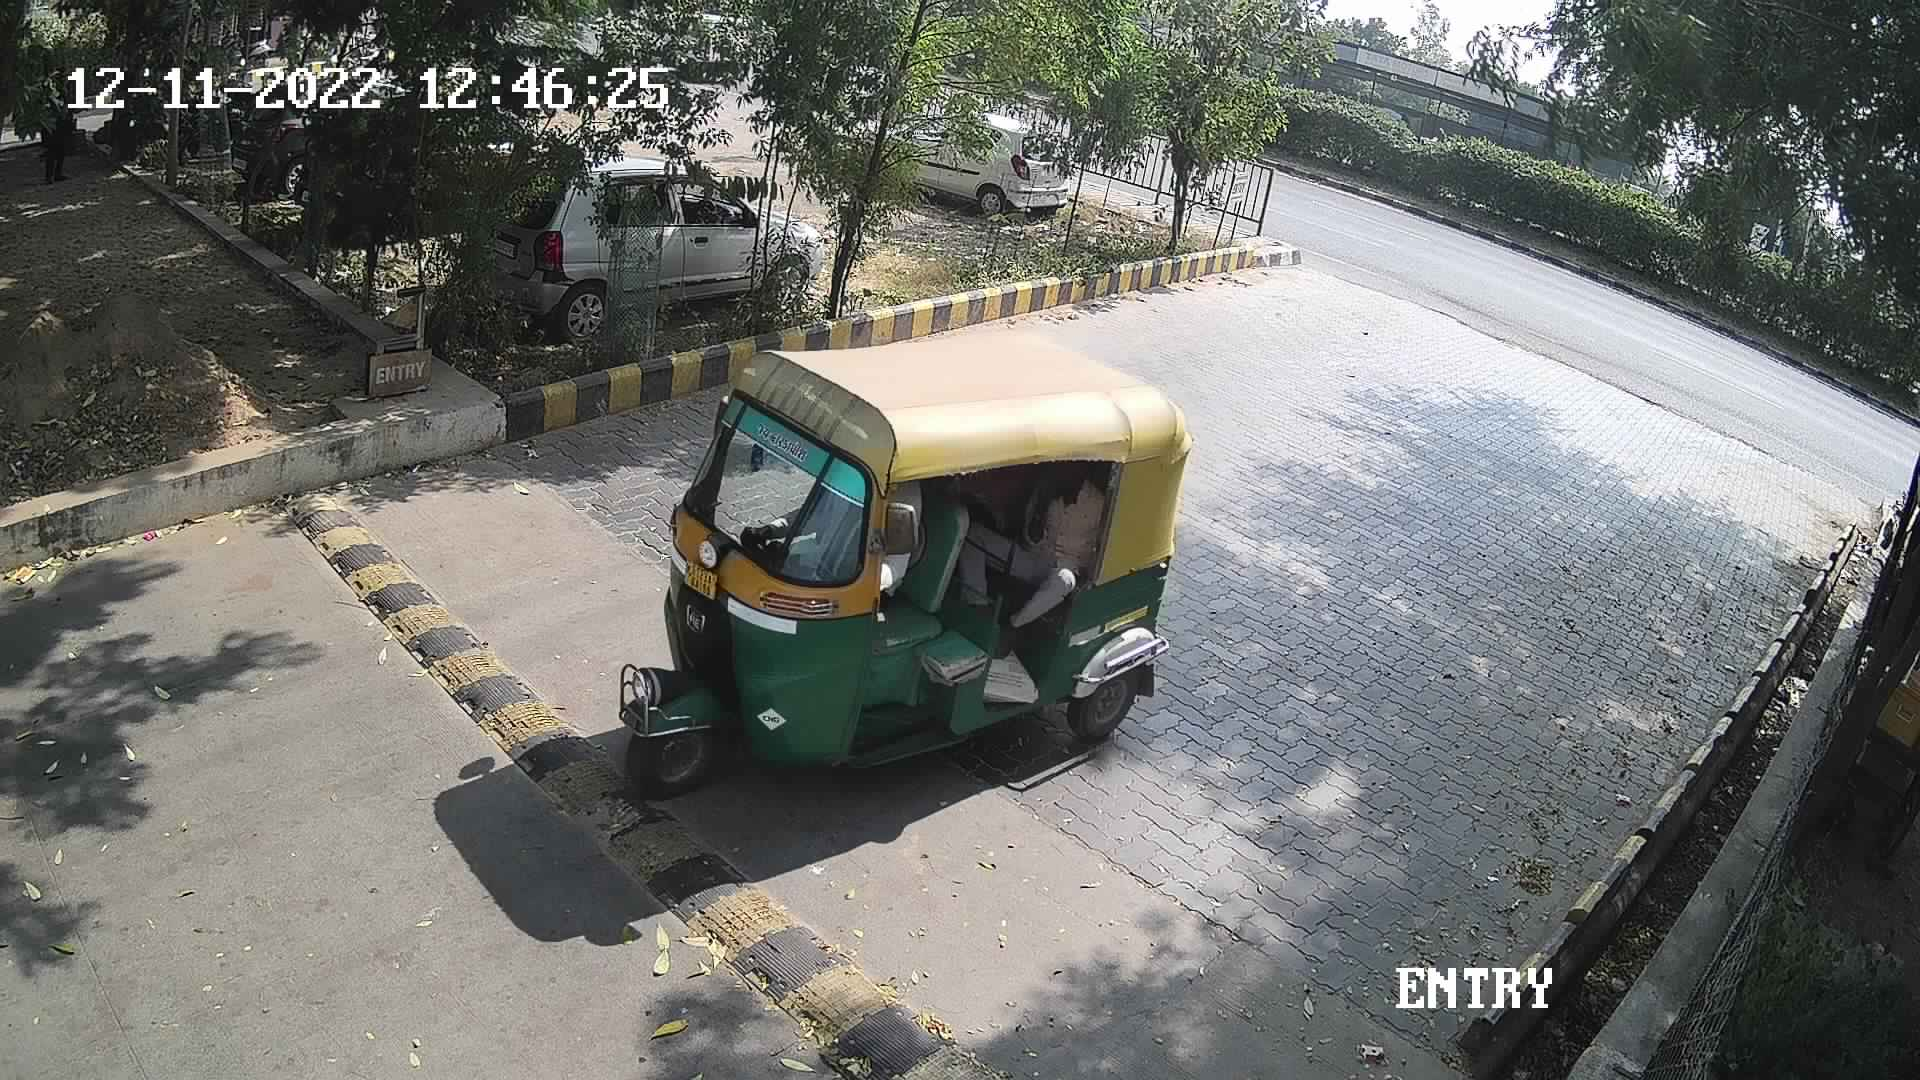Auto: (647, 294, 1187, 824)
Car: (458, 142, 827, 353), (847, 95, 1081, 224)
